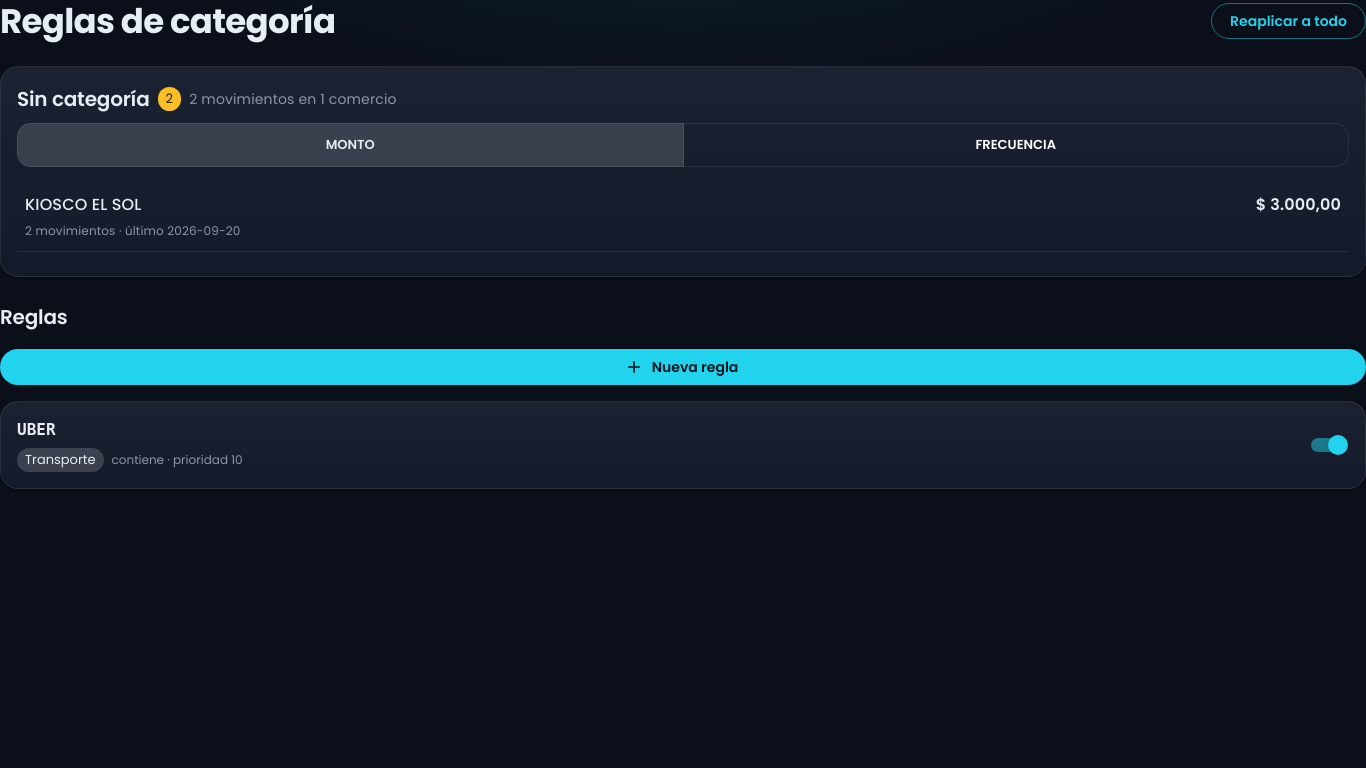
Test case: RulesPage en mobile › «Reaplicar a todo» pide confirmación y Cancelar no manda nada
Click the button "Reaplicar a todo" at point(1289, 21), box 1211,3 -> 1365,39
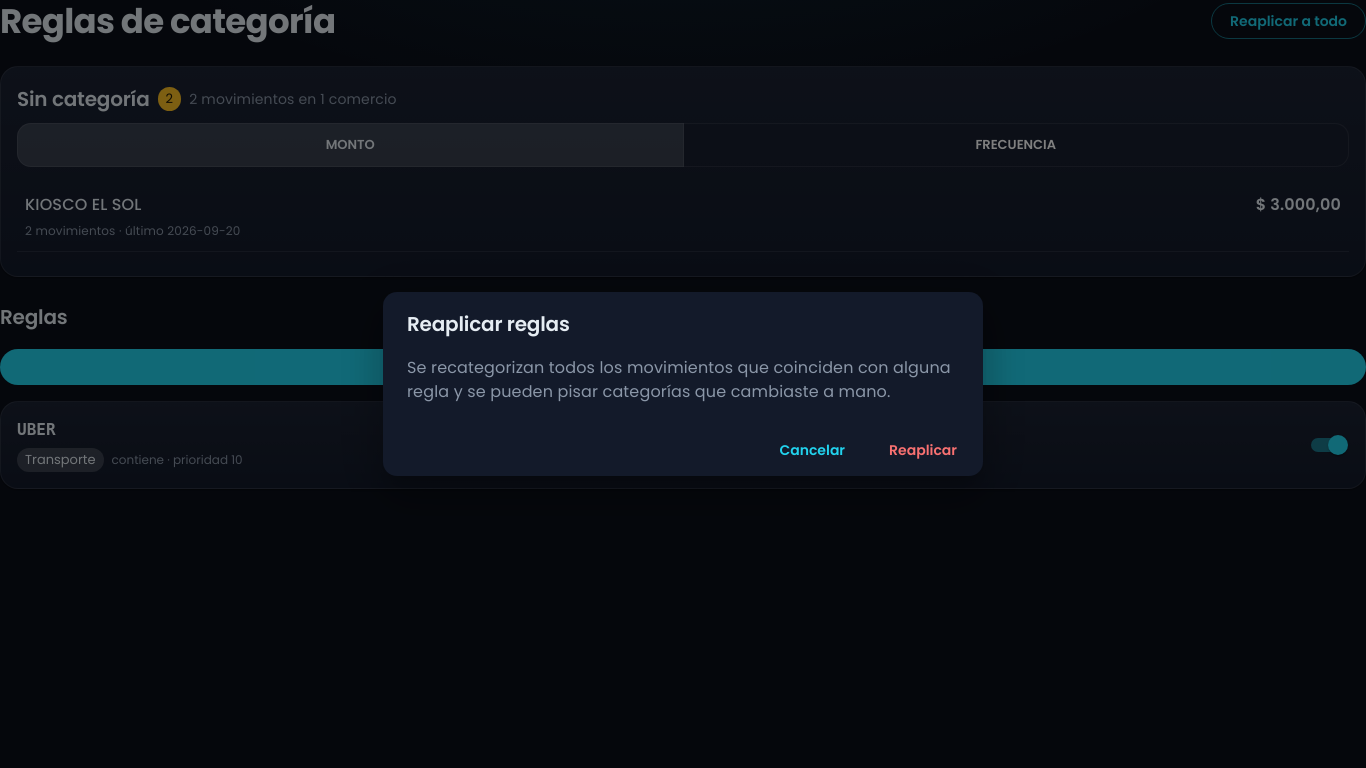
Check: the text "a mano" is shown, box 407,356 -> 951,403
Click the button "Cancelar" at point(812, 450), box 761,432 -> 863,468
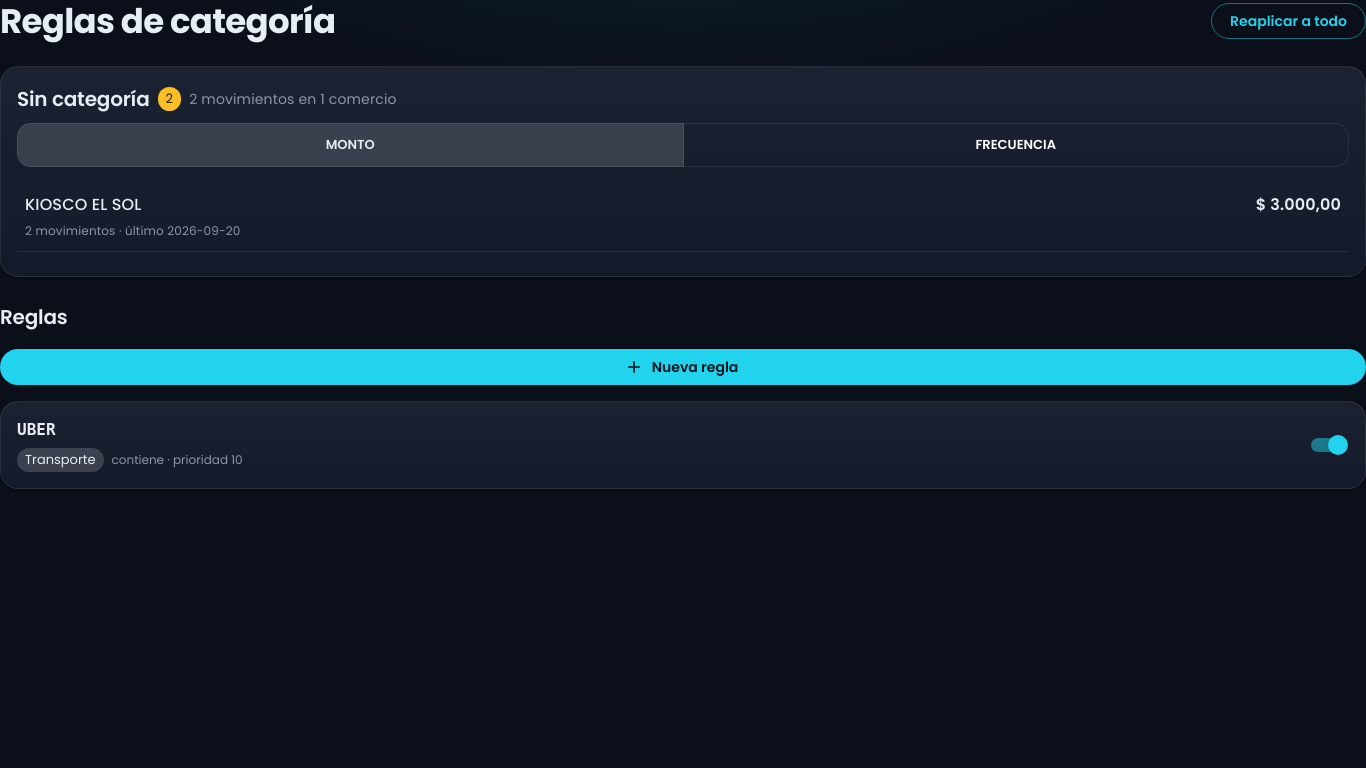
Check: the heading "Reaplicar reglas" is gone
